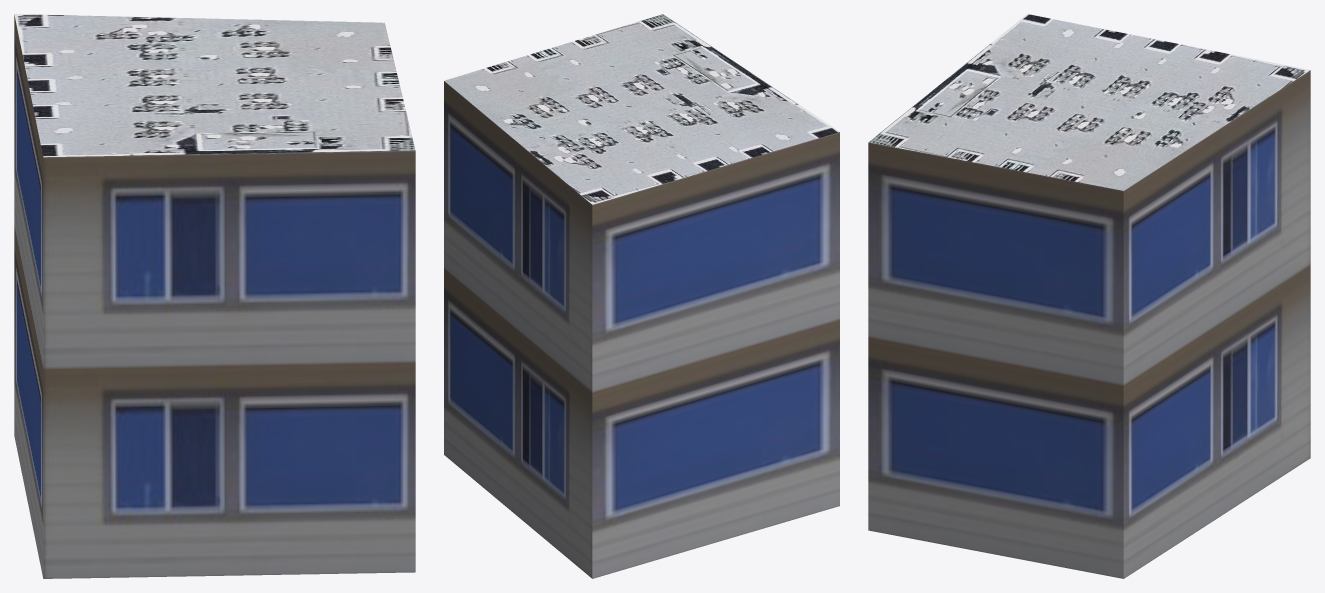
Rendered from ResTex__822.fbx.
3 views of the same model, side by side, from view 1: azimuth 30°, elevation 25°; view 2: azimuth 150°, elevation 25°; view 3: azimuth 270°, elevation 25° (orthographic). The views are drawn at different scales.
Parts seen in each view (by area): view 1: CityEngineMaterial_23_m, CityEngineMaterial_8_m; view 2: CityEngineMaterial_23_m, CityEngineMaterial_8_m; view 3: CityEngineMaterial_23_m, CityEngineMaterial_8_m.
Part boxes in pixels (x1,y1,x2,y2): CityEngineMaterial_23_m: [14, 15, 415, 578]; CityEngineMaterial_8_m: [14, 14, 415, 157]; CityEngineMaterial_23_m: [444, 81, 839, 578]; CityEngineMaterial_8_m: [444, 14, 839, 204]; CityEngineMaterial_23_m: [868, 70, 1310, 578]; CityEngineMaterial_8_m: [868, 14, 1310, 190].
Size of the model in its own units: 5.87 by 6 by 6.2.
2 materials, 2 textured.
